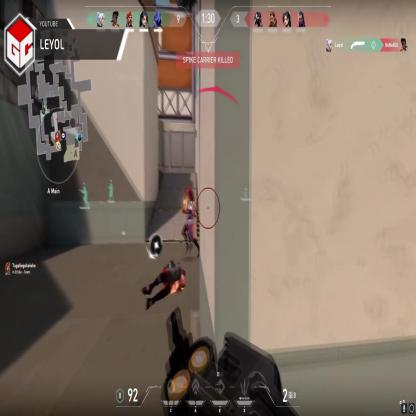enemy: (180, 190, 200, 261)
enemy_head: (186, 192, 190, 202)
